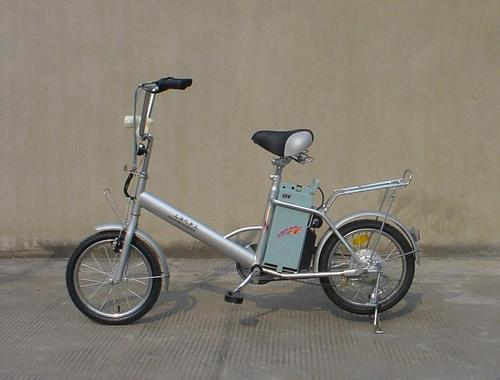电动车: (57, 72, 430, 342)
